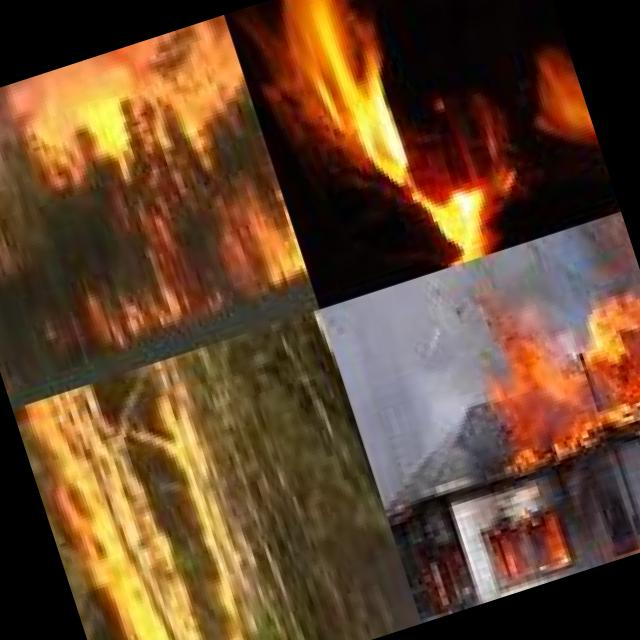fire: (224, 0, 621, 309), (26, 363, 274, 640), (461, 276, 640, 584), (58, 36, 191, 166), (78, 234, 208, 354), (212, 148, 309, 294), (169, 15, 246, 100), (0, 345, 14, 396)
smoke: (0, 69, 74, 163)
